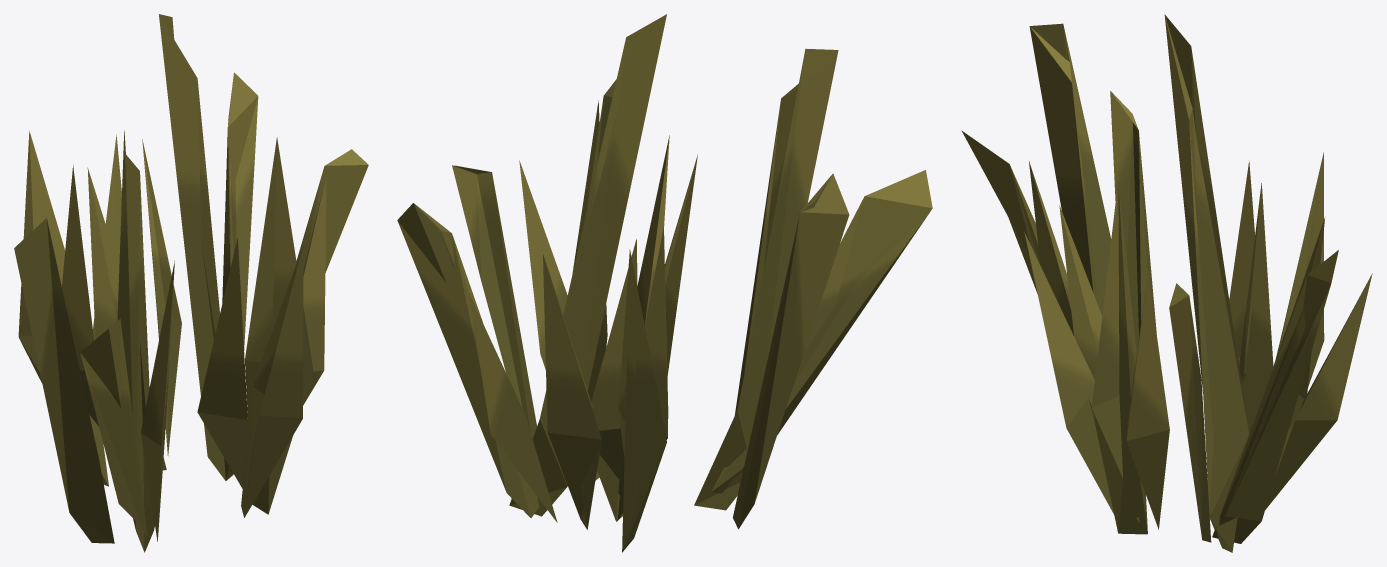
The model's file is bog_grass.gltf.
The picture shows the model from 3 angles, left to right: view 1: azimuth 30°, elevation 25°; view 2: azimuth 150°, elevation 25°; view 3: azimuth 270°, elevation 25°; orthographic projection. The views are drawn at different scales.
Visible parts, largest first — view 1: bog_grass; view 2: bog_grass; view 3: bog_grass.
Part boxes in pixels (bbox=[...]): bog_grass: bbox=[14, 14, 368, 552]; bog_grass: bbox=[397, 14, 932, 552]; bog_grass: bbox=[961, 14, 1372, 552].
Size of the model in its own units: 1.27 by 1.61 by 1.23.
1 material, 1 textured.
